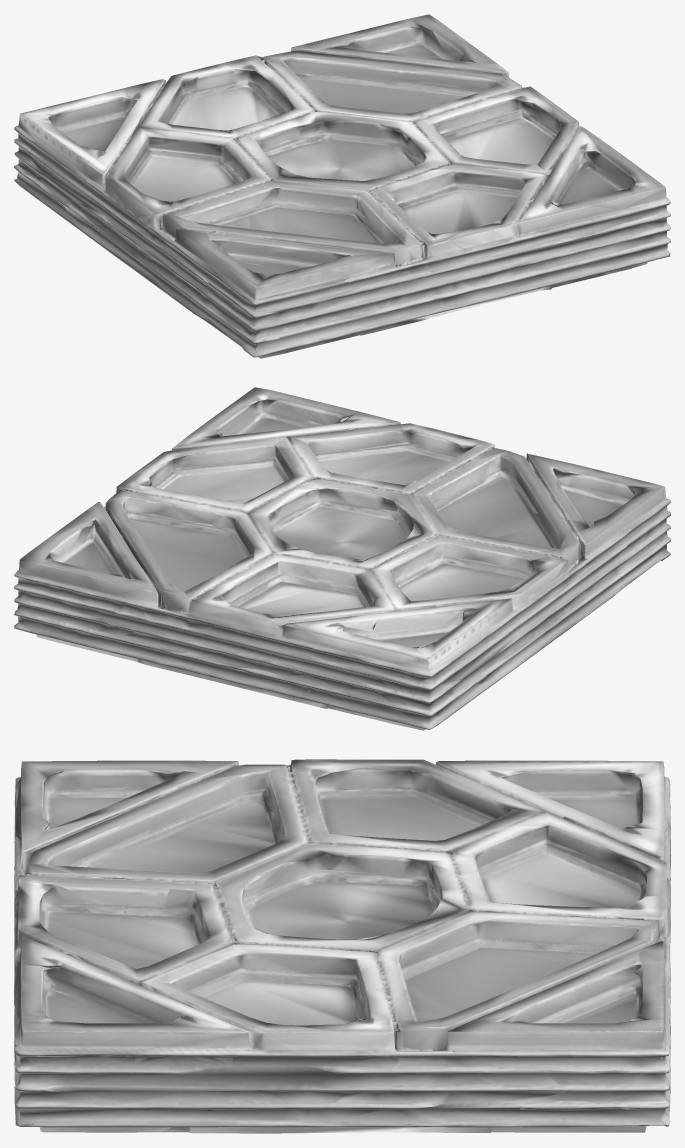
Rendered from ceiling-futuristic.glb.
The picture shows the model from 3 angles, top to bottom: view 1: azimuth 30°, elevation 25°; view 2: azimuth 150°, elevation 25°; view 3: azimuth 270°, elevation 25°; orthographic projection. The views are drawn at different scales.
Visible parts, largest first — view 1: Mesh1.0; view 2: Mesh1.0; view 3: Mesh1.0.
Boxes of the visible parts, x1=… form: Mesh1.0: x1=14, y1=14, x2=670, y2=358; Mesh1.0: x1=14, y1=387, x2=670, y2=730; Mesh1.0: x1=14, y1=759, x2=670, y2=1133.
Bounding box in the file's own units: 1.36 × 0.2496 × 1.36.
1 material, 1 textured.
